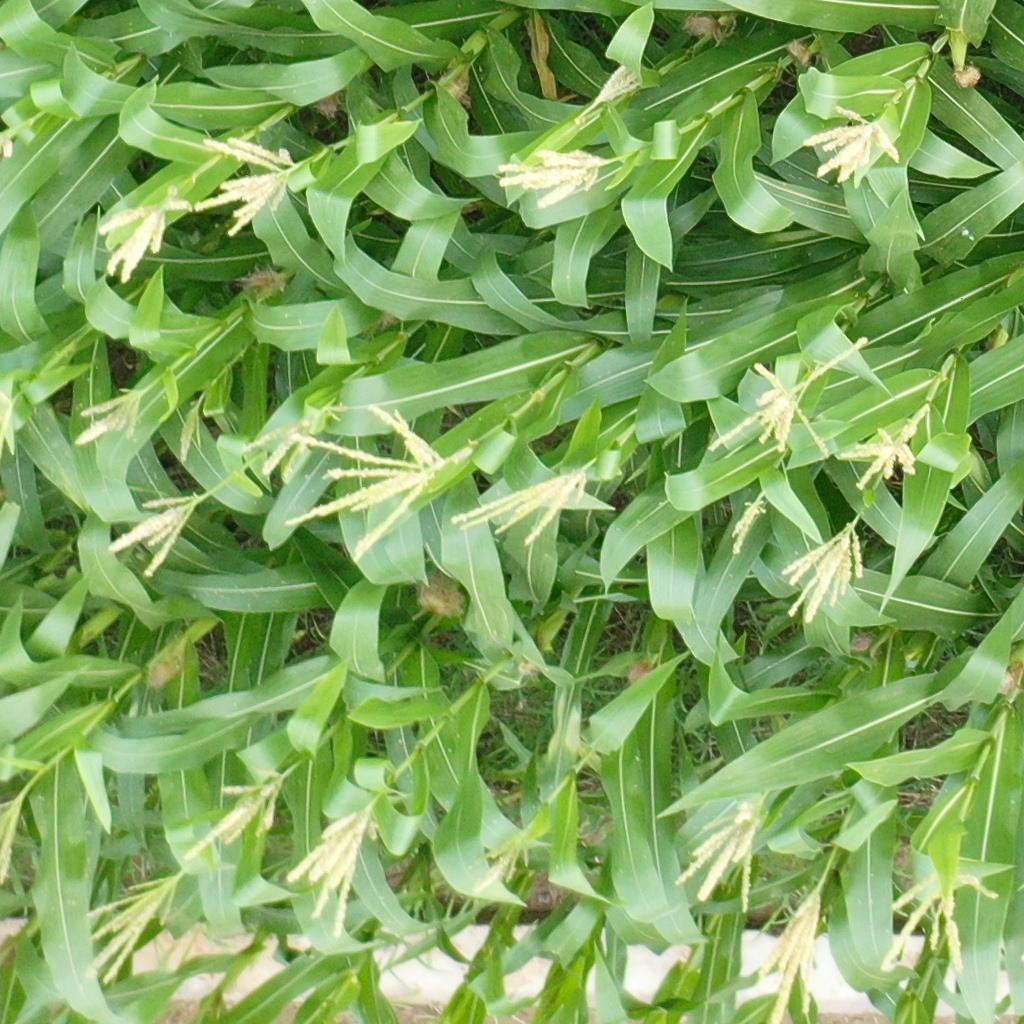Tassel: (284, 404, 455, 563), (704, 339, 869, 465), (283, 802, 380, 940), (875, 870, 999, 975), (454, 457, 589, 549), (191, 131, 302, 240), (80, 870, 181, 987), (677, 798, 765, 915), (184, 769, 290, 859), (783, 512, 865, 625), (104, 182, 190, 286), (111, 485, 203, 581), (799, 101, 898, 186), (760, 892, 823, 1024), (494, 145, 618, 209), (839, 406, 928, 489), (242, 404, 320, 479), (74, 382, 145, 450), (465, 832, 523, 895), (730, 489, 766, 558), (590, 62, 644, 107), (1, 791, 25, 886), (177, 398, 206, 465), (1, 389, 22, 454)
